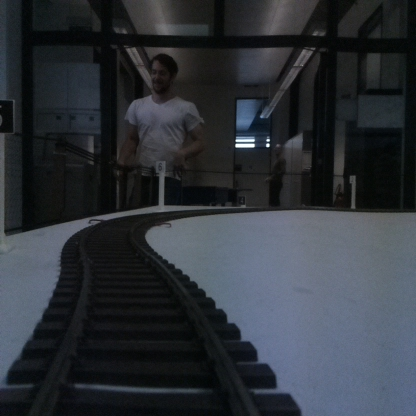white-info-6: (156, 160, 165, 209)
